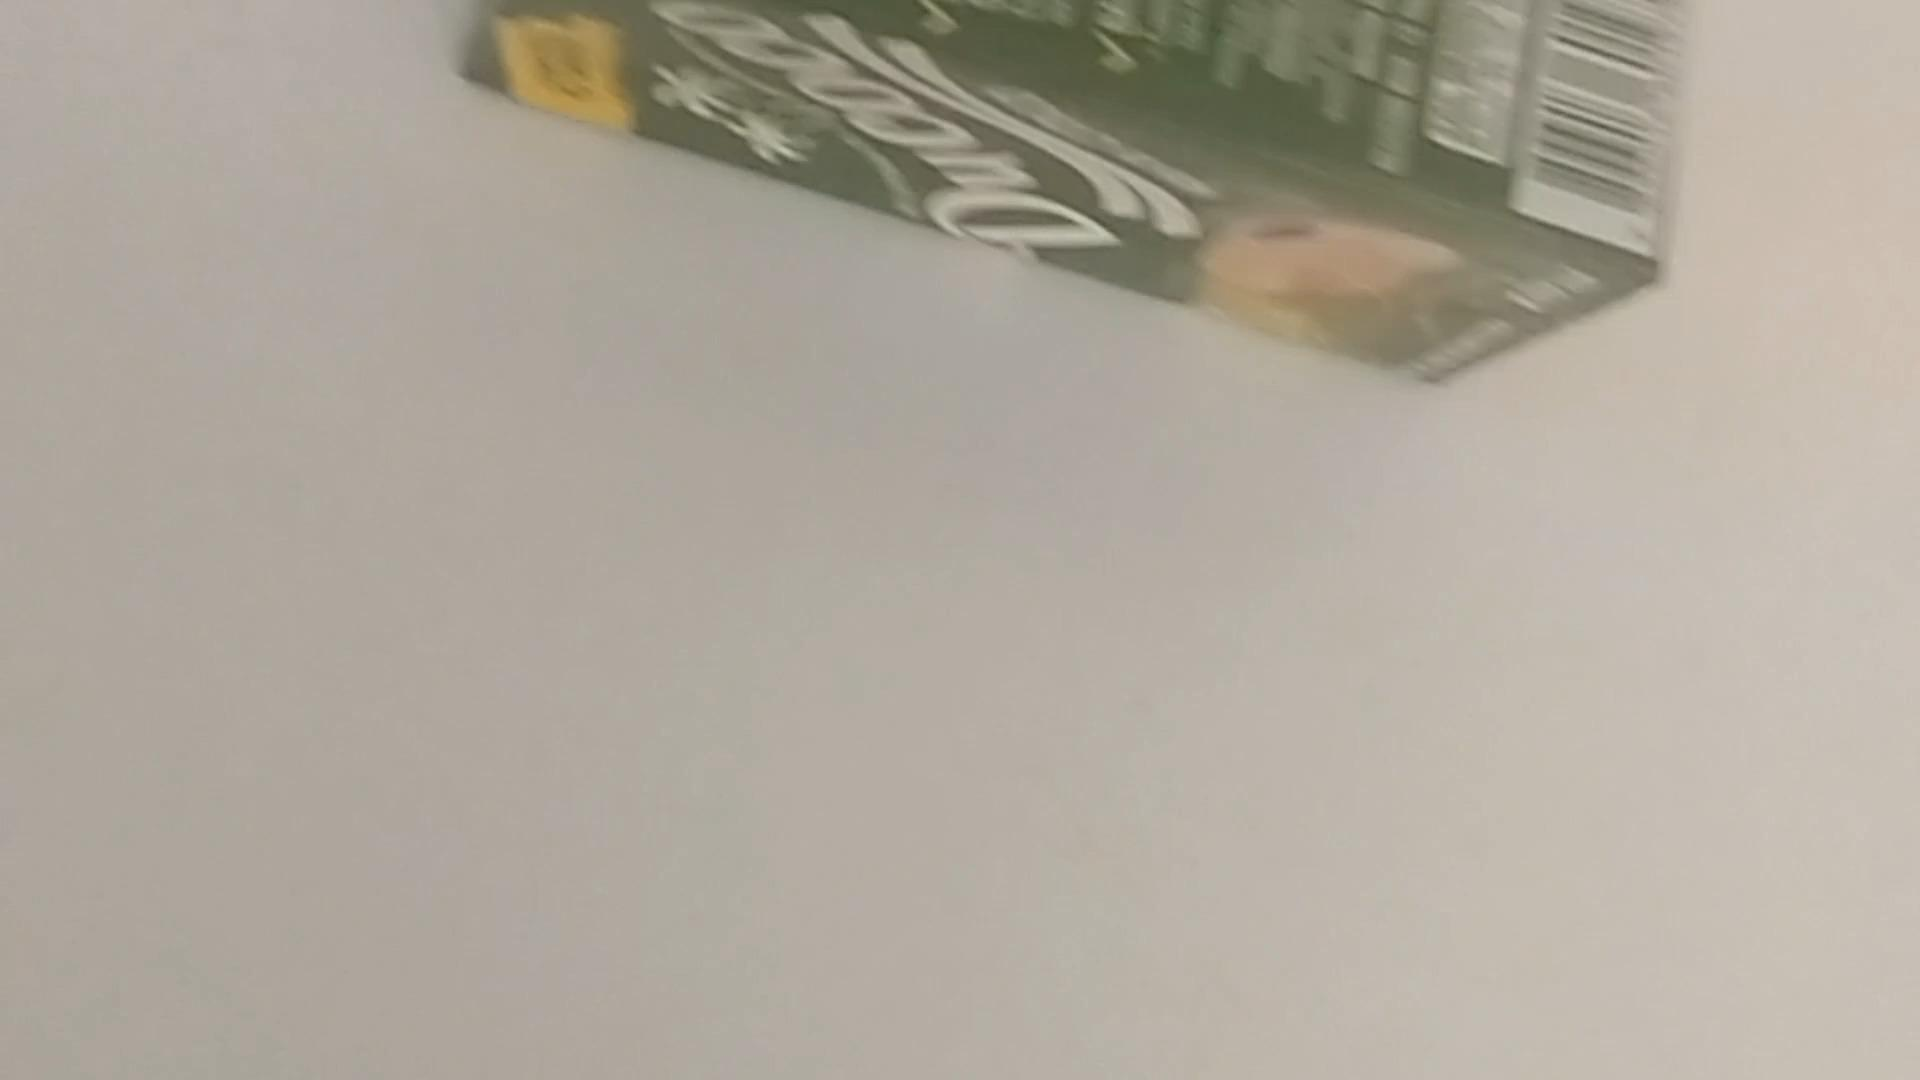coco: (465, 0, 1680, 385)
